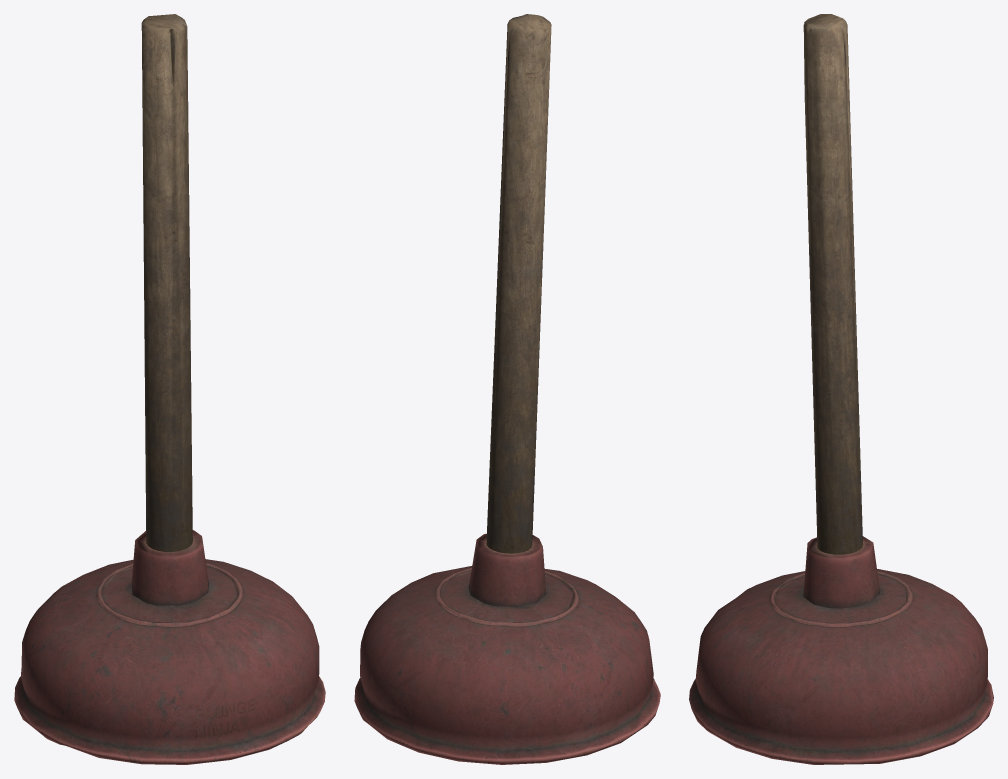
File: plunger.glb
The picture shows the model from 3 angles, left to right: view 1: azimuth 30°, elevation 25°; view 2: azimuth 150°, elevation 25°; view 3: azimuth 270°, elevation 25°; orthographic projection. The views are drawn at different scales.
Parts seen in each view (by area): view 1: plunger; view 2: plunger; view 3: plunger.
Boxes of the visible parts, x1=… form: plunger: x1=14, y1=14, x2=325, y2=764; plunger: x1=354, y1=14, x2=660, y2=764; plunger: x1=689, y1=14, x2=993, y2=764.
Bounding box in the file's own units: 0.172 × 0.4206 × 0.172.
Materials: 1 (1 with a texture image).
